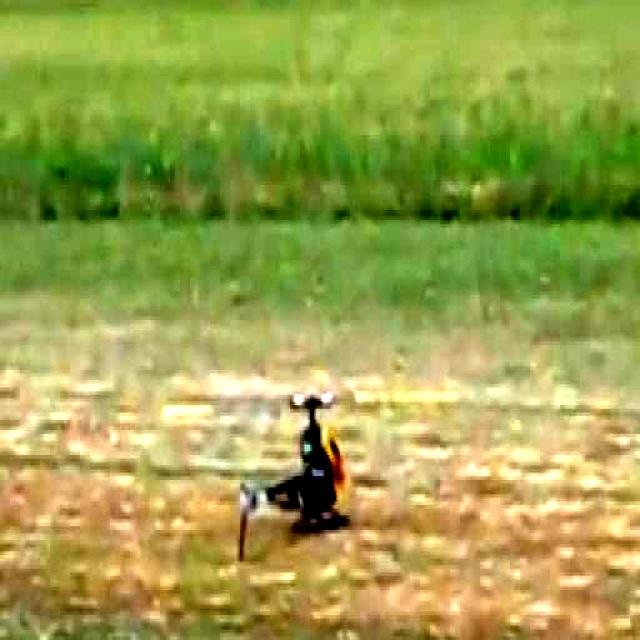drone: (214, 356, 410, 570)
